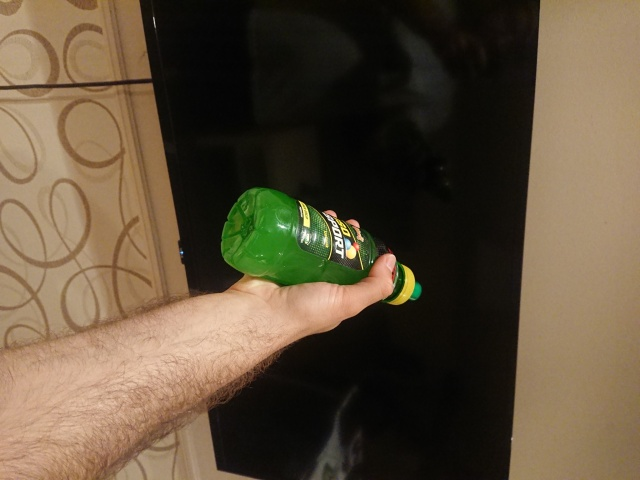Vindi Iso Sport Lemon-Grapefruit 500mL: (218, 184, 425, 308)
